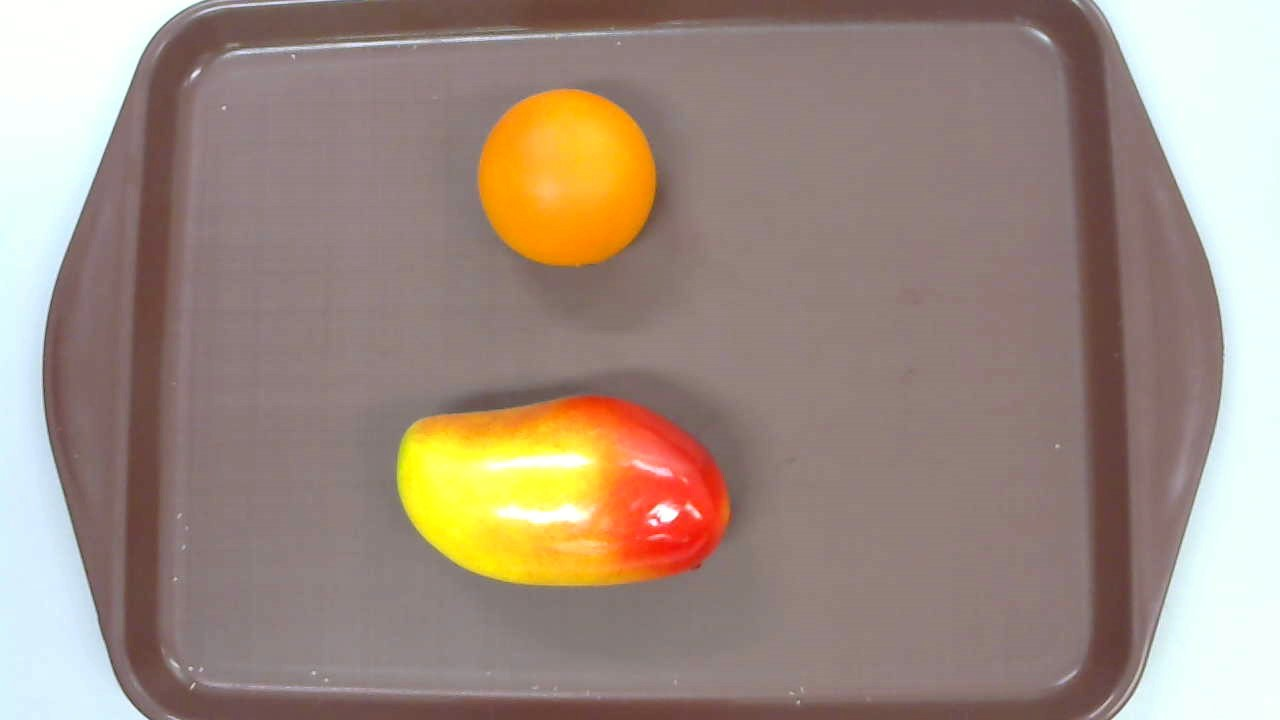bun: (478, 87, 657, 266)
red mango: (397, 394, 733, 588)
